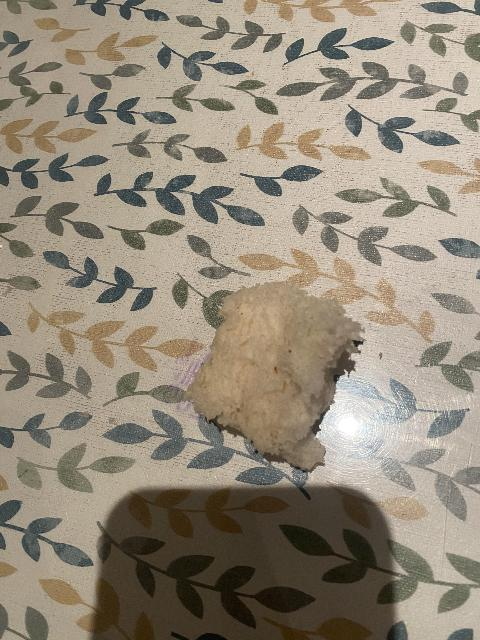Organik: (194, 283, 363, 463)
